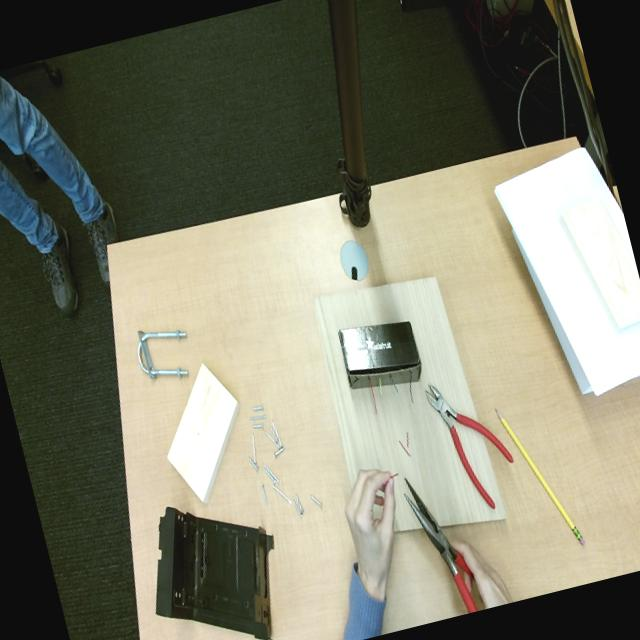pliers: (426, 385, 513, 508), (405, 482, 477, 612)
